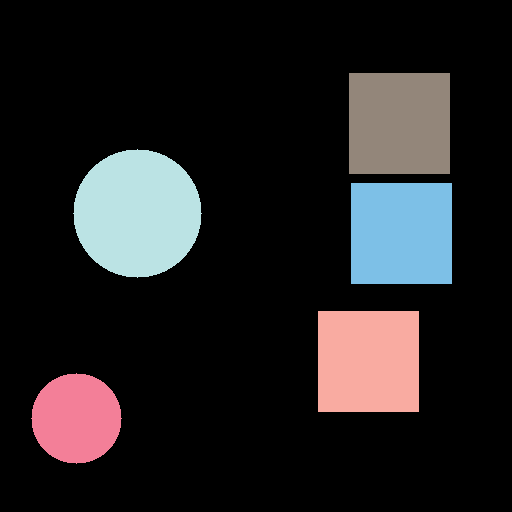circle: (73, 149, 201, 277), (31, 373, 121, 463)
square: (318, 311, 418, 411), (351, 183, 451, 283), (349, 73, 449, 173)
